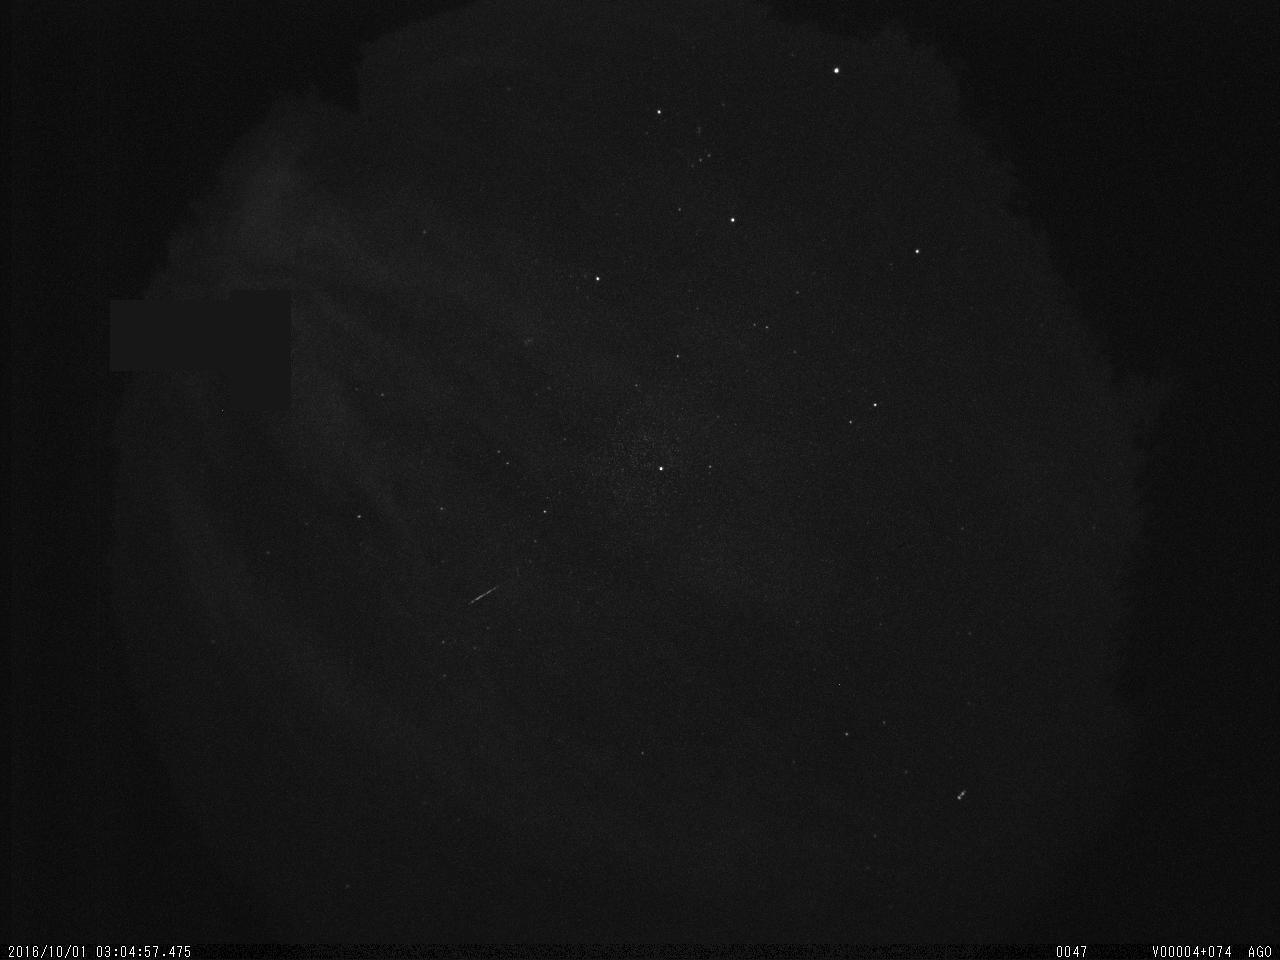meteor: (463, 574, 519, 609)
